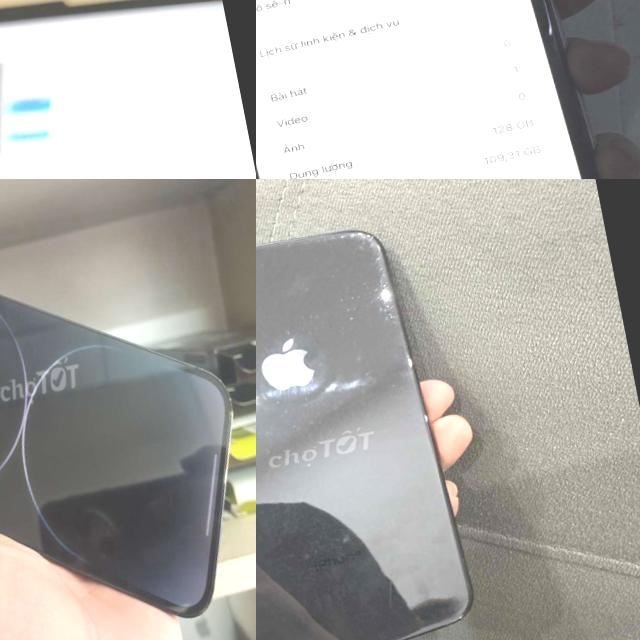gen_11: (256, 0, 628, 179)
gen_14: (0, 187, 256, 640)
gen_x_xs: (256, 187, 517, 640)
